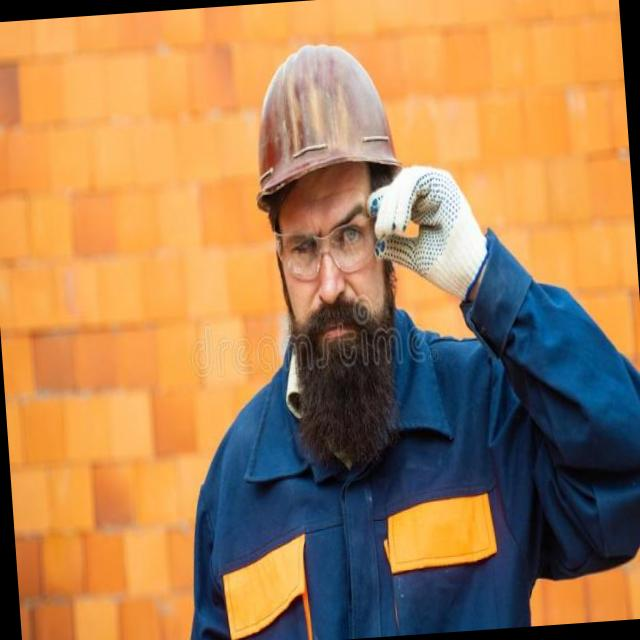Gloves: (367, 166, 498, 294)
Helmet: (218, 32, 422, 210)
